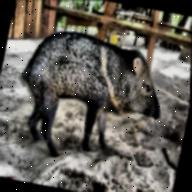boar: (0, 11, 178, 188)
